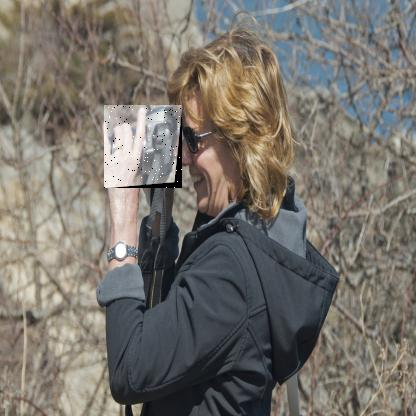Camera: (105, 106, 184, 190)
